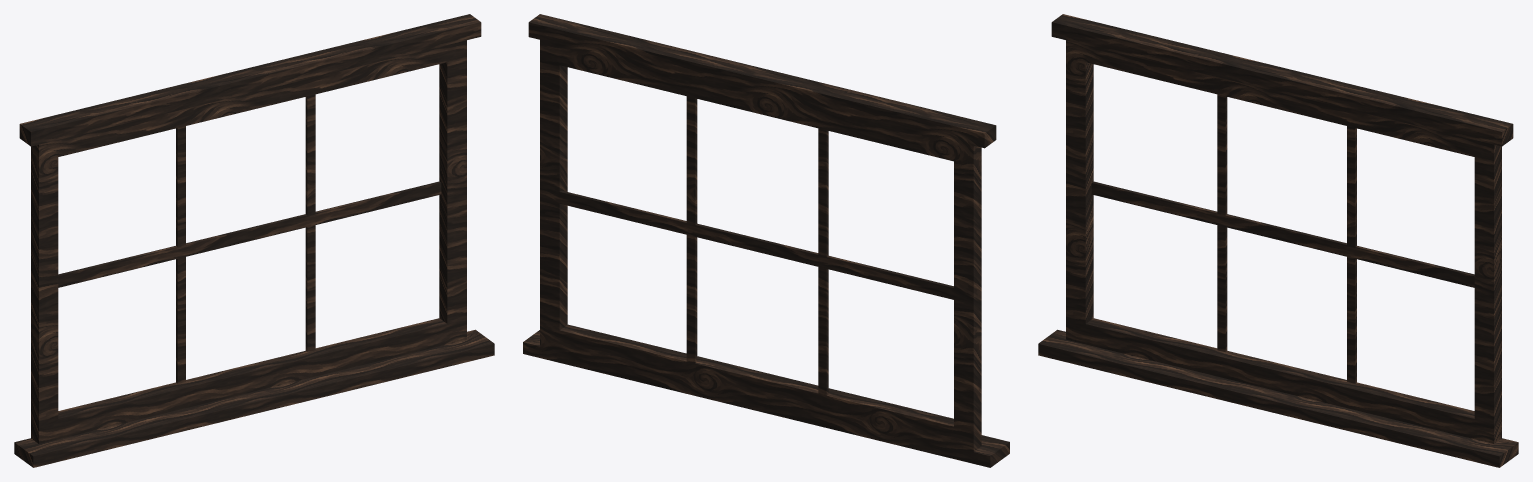
File: window-frame.glb
3 views of the same model, side by side, from view 1: azimuth 30°, elevation 25°; view 2: azimuth 150°, elevation 25°; view 3: azimuth 330°, elevation 25° (orthographic).
Visible parts, largest first — view 1: geometry_0; view 2: geometry_0; view 3: geometry_0.
Boxes of the visible parts, left/top/right/bottom form: geometry_0: left=14, top=14, right=494, bottom=467; geometry_0: left=523, top=14, right=1009, bottom=467; geometry_0: left=1038, top=14, right=1518, bottom=467.
Size of the model in its own units: 1.66 by 1.13 by 0.12.
Materials: 1 (1 with a texture image).
